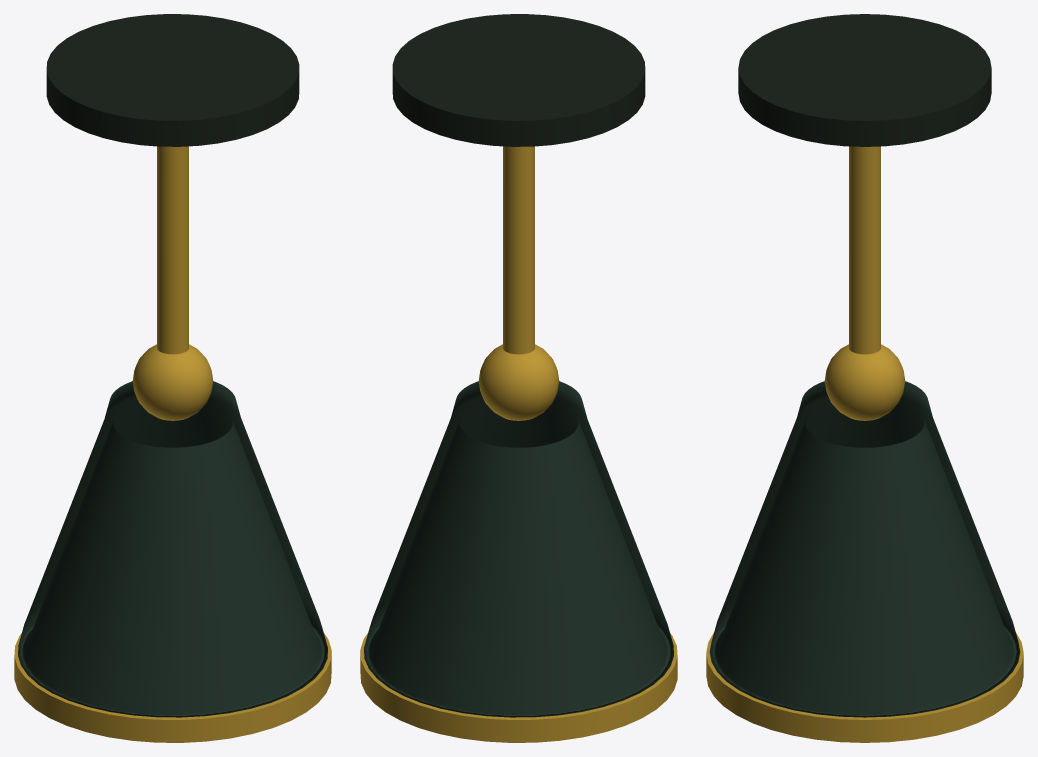
File: ceiling-spotlight.glb
3 views of the same model, side by side, from view 1: azimuth 30°, elevation 25°; view 2: azimuth 150°, elevation 25°; view 3: azimuth 270°, elevation 25° (orthographic).
Visible parts, largest first — view 1: shade, ceiling_plate, shade_rim, drop_rod, gimbal_ball; view 2: shade, ceiling_plate, shade_rim, drop_rod, gimbal_ball; view 3: shade, ceiling_plate, shade_rim, drop_rod, gimbal_ball.
Boxes of the visible parts, x1=… form: shade: x1=18, y1=381, x2=327, y2=717; ceiling_plate: x1=46, y1=14, x2=299, y2=146; shade_rim: x1=14, y1=633, x2=331, y2=742; drop_rod: x1=157, y1=146, x2=188, y2=354; gimbal_ball: x1=132, y1=344, x2=213, y2=420; shade: x1=364, y1=381, x2=673, y2=717; ceiling_plate: x1=392, y1=14, x2=645, y2=146; shade_rim: x1=360, y1=633, x2=677, y2=742; drop_rod: x1=503, y1=146, x2=534, y2=354; gimbal_ball: x1=478, y1=344, x2=559, y2=420; shade: x1=709, y1=381, x2=1020, y2=717; ceiling_plate: x1=738, y1=14, x2=991, y2=146; shade_rim: x1=706, y1=633, x2=1023, y2=742; drop_rod: x1=849, y1=146, x2=880, y2=354; gimbal_ball: x1=824, y1=344, x2=905, y2=420.
Size of the model in its own units: 0.276 by 0.5835 by 0.276.
